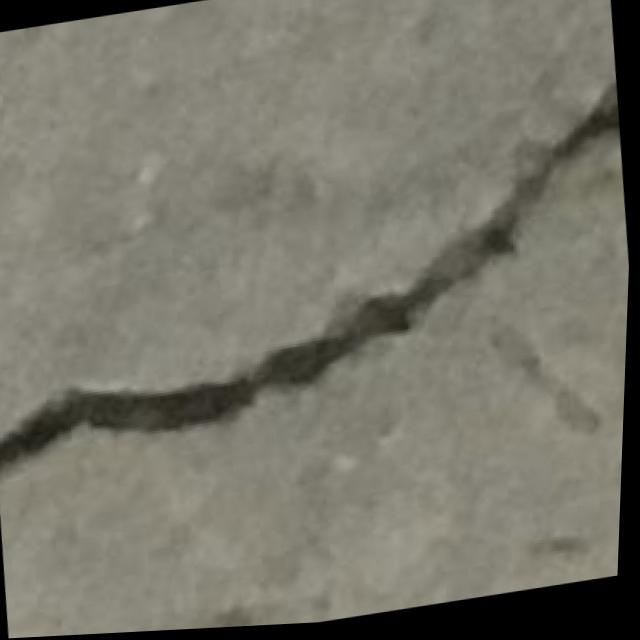Crack: (0, 85, 637, 467)
